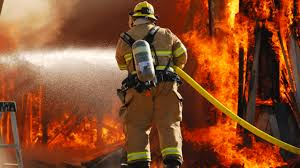emergent: (112, 1, 187, 168)
